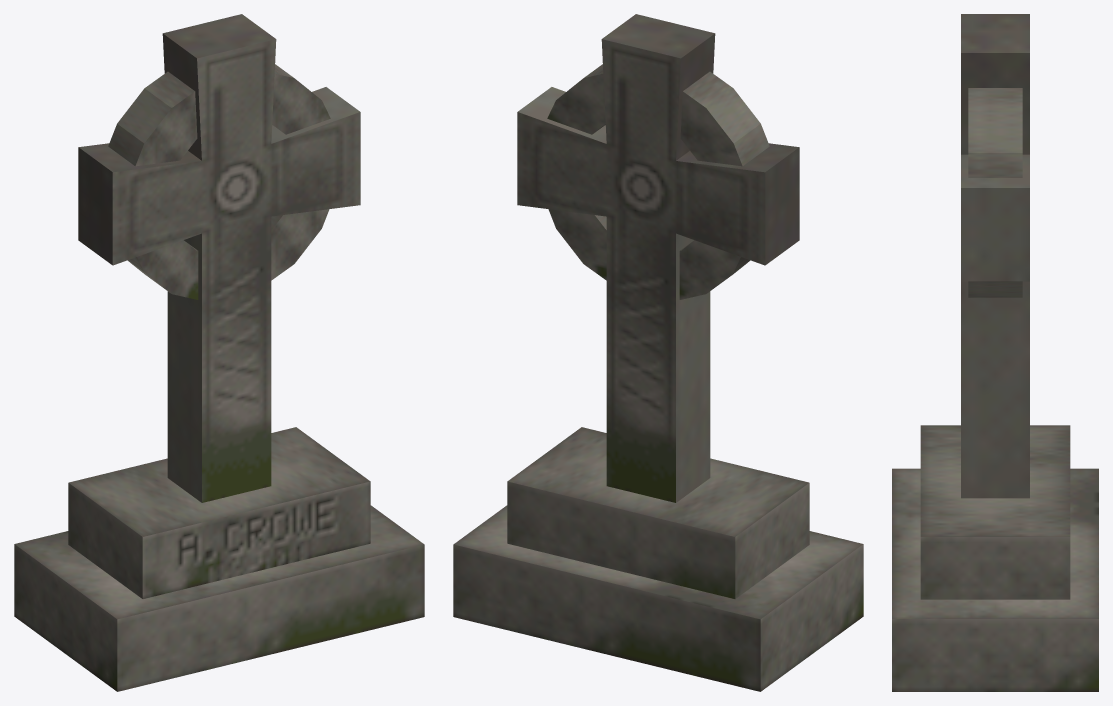
Rendered from gravestone_cross.obj.
3 renders of one model, left to right at view 1: azimuth 30°, elevation 25°; view 2: azimuth 150°, elevation 25°; view 3: azimuth 270°, elevation 25°, orthographic.
Visible parts, largest first — view 1: gravestone_cross; view 2: gravestone_cross; view 3: gravestone_cross.
Part boxes in pixels (box(x1,y1,x2,y2)): gravestone_cross: box(14, 14, 424, 691); gravestone_cross: box(453, 14, 863, 691); gravestone_cross: box(892, 14, 1098, 691).
Bounding box in the file's own units: 0.62 × 1.12 × 0.36.
Materials: 1 (1 with a texture image).
